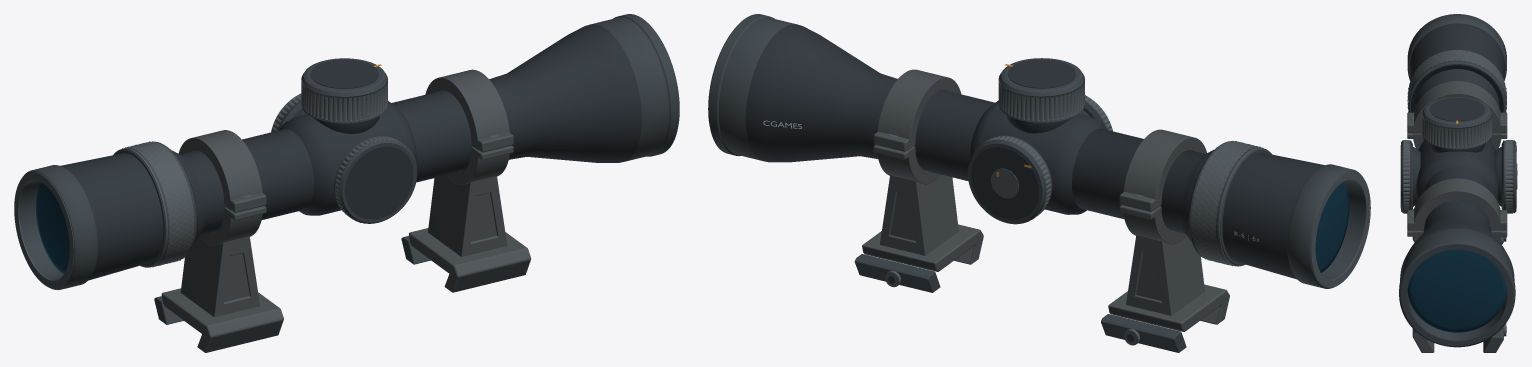
File: R6_6x_Scope_Legacy_K1_Rail_Top.glb
3 views of the same model, side by side, from view 1: azimuth 30°, elevation 25°; view 2: azimuth 150°, elevation 25°; view 3: azimuth 270°, elevation 25° (orthographic). The views are drawn at different scales.
Parts seen in each view (by area): view 1: 01 MAIN SHELL, 02 FRONT COLLAR, 07 SUPPORT 1, 07 SUPPORT 2, 02d REAR COLLAR, 03 CENTRE BODY, 05 LEFT FACE, 08.2 LOCAL BASE FIXED EDGE, 08.1 LOCAL BASE FIXED EDGE, 13 FOCUS DIAMOND DEPRESSIONS, 06 RING 2 UPPER, 06 RING 1 UPPER (+13 smaller); view 2: 01 MAIN SHELL, 02 FRONT COLLAR, 07 SUPPORT 1, 07 SUPPORT 2, 02d REAR COLLAR, 03 CENTRE BODY, 05 RIGHT FACE, 13 FOCUS DIAMOND DEPRESSIONS, 06 RING 2 UPPER, 06 RING 1 UPPER, 08.1 LOCAL BASE FIXED EDGE, 08.2 LOCAL BASE FIXED EDGE (+16 smaller); view 3: 11 FRONT VISUAL PANE, 01 MAIN SHELL, 02 FRONT COLLAR, 06 RING 1 UPPER, 03 CENTRE BODY, 06 RING 2 UPPER, 04c TOP GRIP VALLEYS, 02d REAR COLLAR, 13 FOCUS DIAMOND DEPRESSIONS, 04d TOP FACE, 04b TOP CAP, 02g FOCUS COLLAR (+17 smaller).
Boxes of the visible parts, x1,y1,x2,y2 form: 01 MAIN SHELL: [60, 24, 641, 280]; 02 FRONT COLLAR: [590, 14, 679, 161]; 07 SUPPORT 1: [428, 175, 507, 256]; 07 SUPPORT 2: [180, 236, 259, 317]; 02d REAR COLLAR: [19, 165, 97, 289]; 03 CENTRE BODY: [279, 101, 416, 215]; 05 LEFT FACE: [345, 146, 413, 219]; 08.2 LOCAL BASE FIXED EDGE: [161, 288, 283, 352]; 08.1 LOCAL BASE FIXED EDGE: [409, 228, 530, 292]; 13 FOCUS DIAMOND DEPRESSIONS: [122, 141, 194, 267]; 06 RING 2 UPPER: [178, 130, 262, 210]; 06 RING 1 UPPER: [425, 69, 509, 150]; 01 MAIN SHELL: [745, 24, 1324, 279]; 02 FRONT COLLAR: [708, 14, 797, 161]; 07 SUPPORT 1: [880, 175, 958, 255]; 07 SUPPORT 2: [1126, 235, 1204, 315]; 02d REAR COLLAR: [1287, 164, 1365, 288]; 03 CENTRE BODY: [969, 100, 1106, 214]; 05 RIGHT FACE: [971, 147, 1039, 219]; 13 FOCUS DIAMOND DEPRESSIONS: [1191, 141, 1263, 266]; 06 RING 2 UPPER: [1123, 129, 1206, 209]; 06 RING 1 UPPER: [877, 69, 961, 149]; 08.1 LOCAL BASE FIXED EDGE: [862, 224, 983, 271]; 08.2 LOCAL BASE FIXED EDGE: [1108, 284, 1229, 331]; 11 FRONT VISUAL PANE: [1407, 249, 1506, 332]; 01 MAIN SHELL: [1400, 24, 1513, 271]; 02 FRONT COLLAR: [1399, 228, 1515, 347]; 06 RING 1 UPPER: [1413, 178, 1501, 230]; 03 CENTRE BODY: [1416, 139, 1498, 200]; 06 RING 2 UPPER: [1413, 81, 1501, 133]; 04c TOP GRIP VALLEYS: [1422, 113, 1492, 147]; 02d REAR COLLAR: [1407, 14, 1506, 80]; 13 FOCUS DIAMOND DEPRESSIONS: [1407, 50, 1506, 112]; 04d TOP FACE: [1429, 97, 1484, 121]; 04b TOP CAP: [1422, 96, 1491, 149]; 02g FOCUS COLLAR: [1408, 50, 1506, 112].
Bounding box in the file's own units: 0.303 × 0.108 × 0.0642.
